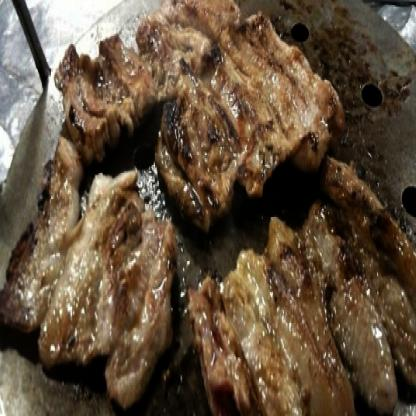Carne: (189, 158, 408, 414), (1, 157, 187, 403), (162, 0, 347, 227), (51, 0, 238, 172)
